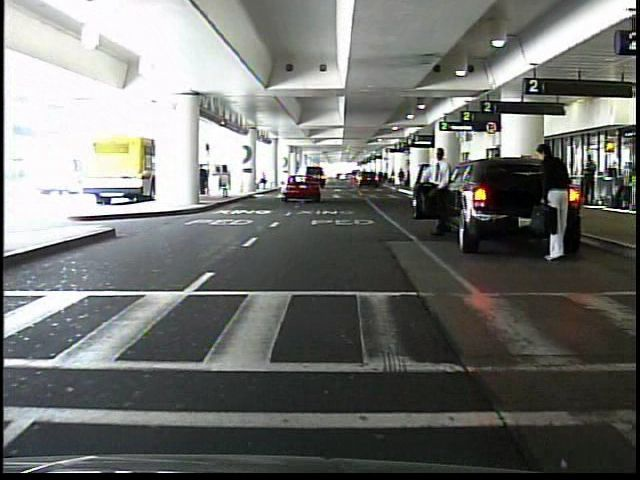person: (532, 141, 576, 263), (425, 147, 453, 243), (581, 155, 595, 206), (196, 160, 211, 196), (397, 166, 408, 189)
